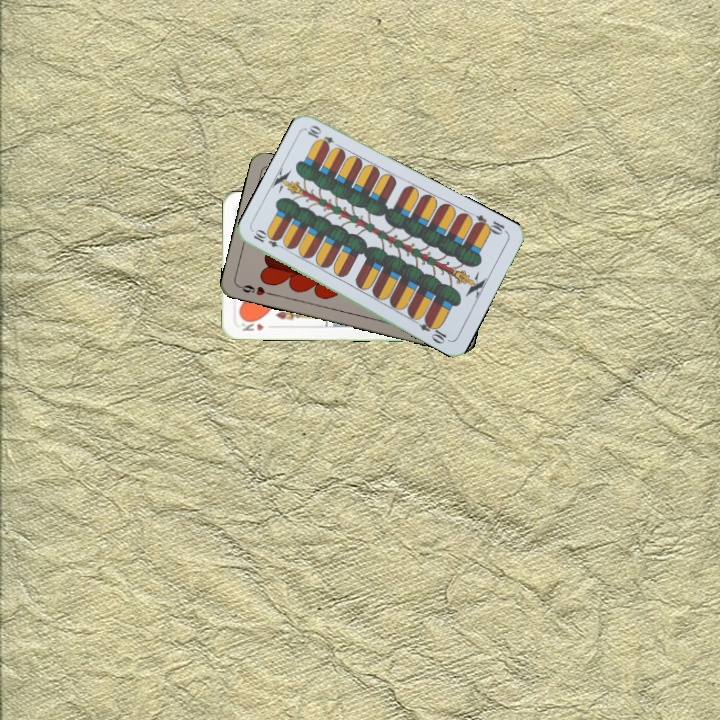E10: (470, 211, 510, 237), (249, 227, 289, 252)
H9: (235, 281, 275, 298)
HK: (238, 315, 267, 333)
